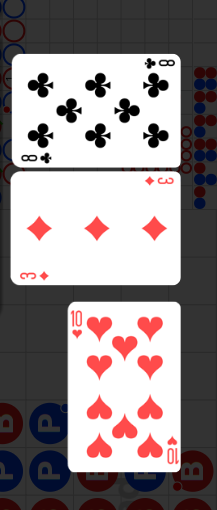10H: (70, 309, 85, 341), (164, 434, 178, 466)
8C: (20, 150, 54, 164)
